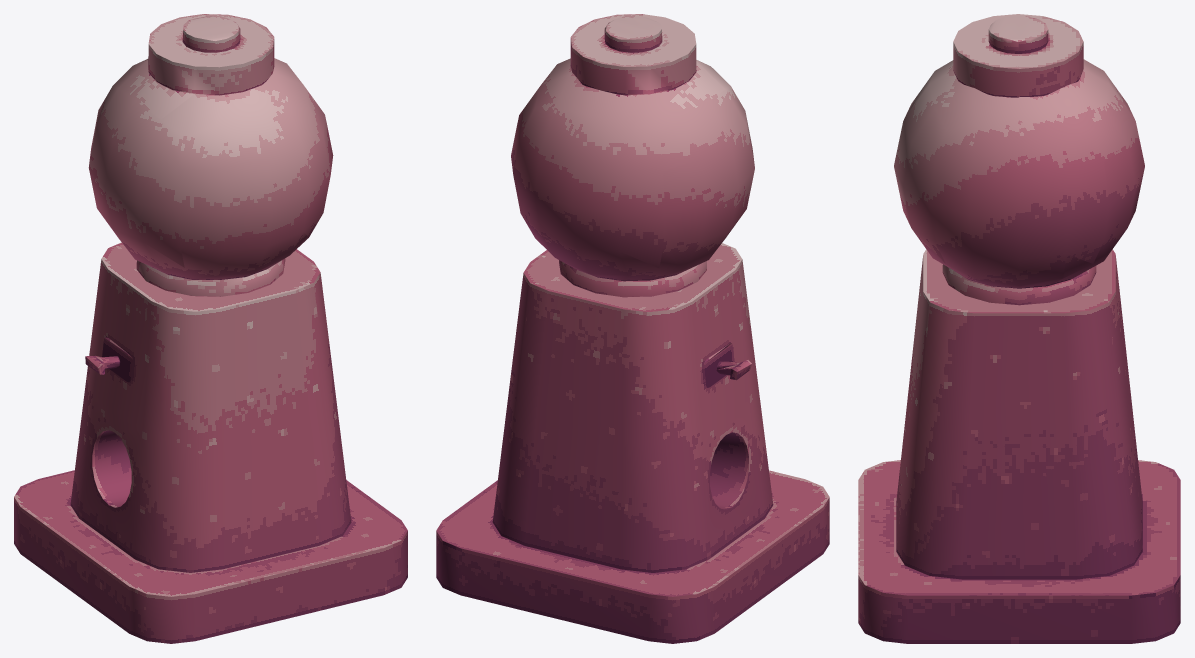
The model's file is gumball_machine2.glb.
The picture shows the model from 3 angles, left to right: view 1: azimuth 30°, elevation 25°; view 2: azimuth 150°, elevation 25°; view 3: azimuth 270°, elevation 25°; orthographic projection. The views are drawn at different scales.
Visible parts, largest first — view 1: mesh; view 2: mesh; view 3: mesh.
Boxes of the visible parts, x1,y1,x2,y2 form: mesh: [14, 14, 407, 643]; mesh: [436, 14, 829, 643]; mesh: [858, 14, 1180, 643].
Bounding box in the file's own units: 0.2135 × 0.4 × 0.2135.
1 material, 1 textured.
